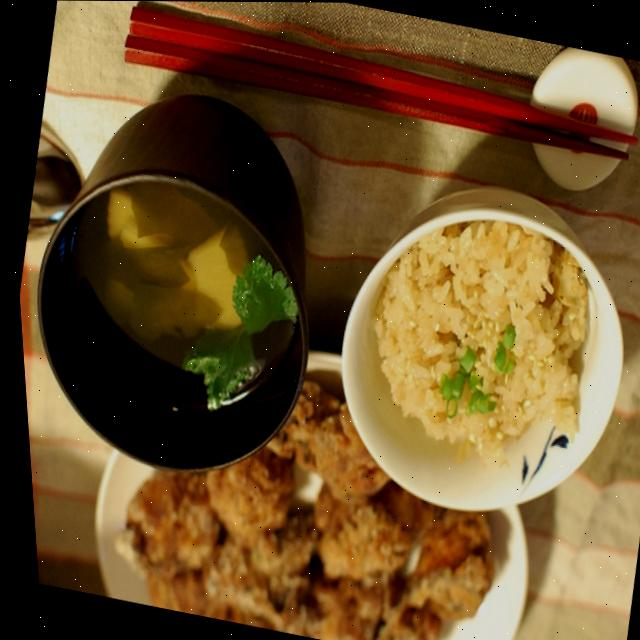汤锅炖物: (4, 85, 355, 501)
